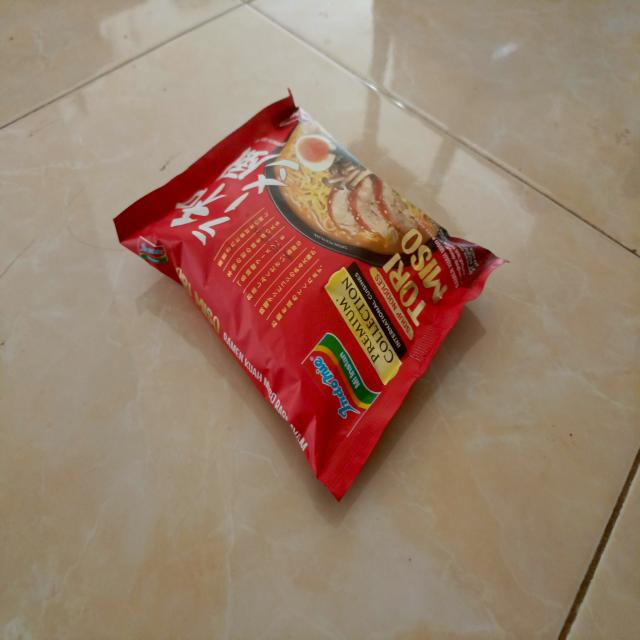indomie-tori-miso: (111, 89, 508, 504)
